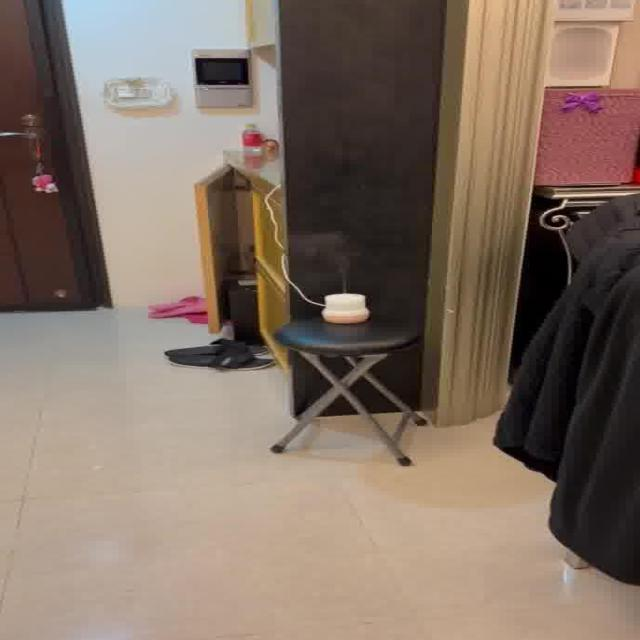fire: (302, 230, 356, 285)
